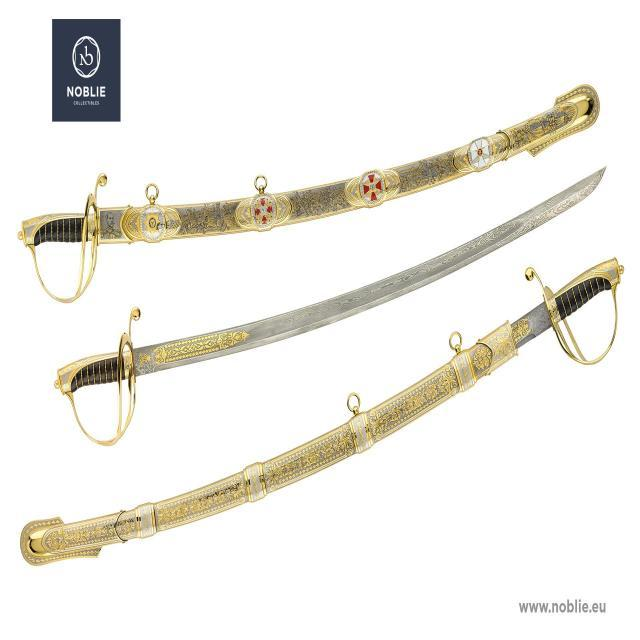long sword: (18, 253, 624, 570), (57, 168, 606, 448)
